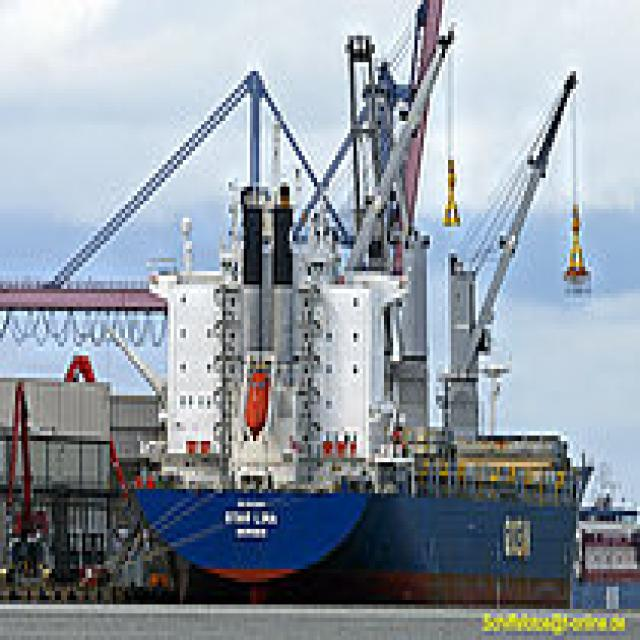Cargo: (128, 165, 594, 604)
